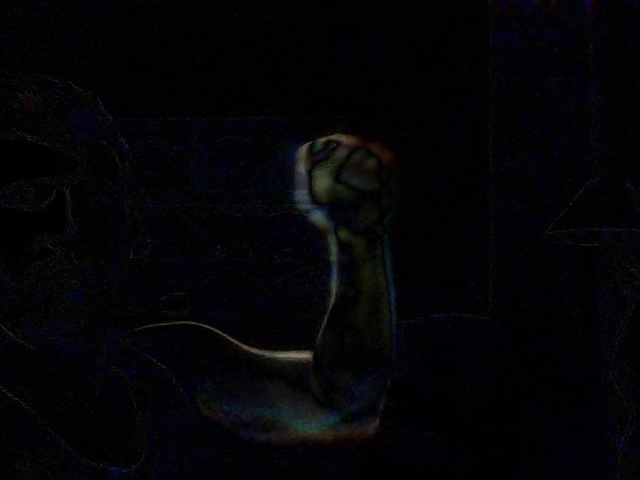hand_fi: (292, 129, 411, 240)
